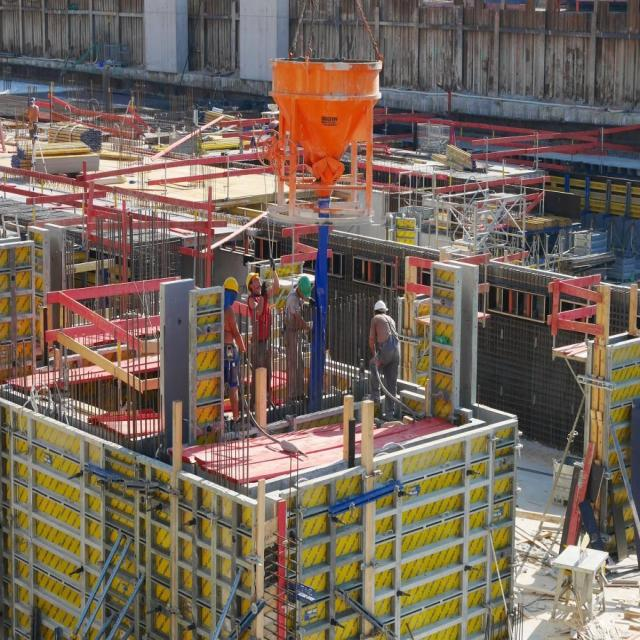sin_chaleco: (368, 312, 404, 356), (216, 302, 244, 356), (246, 288, 272, 344), (282, 286, 308, 341)
